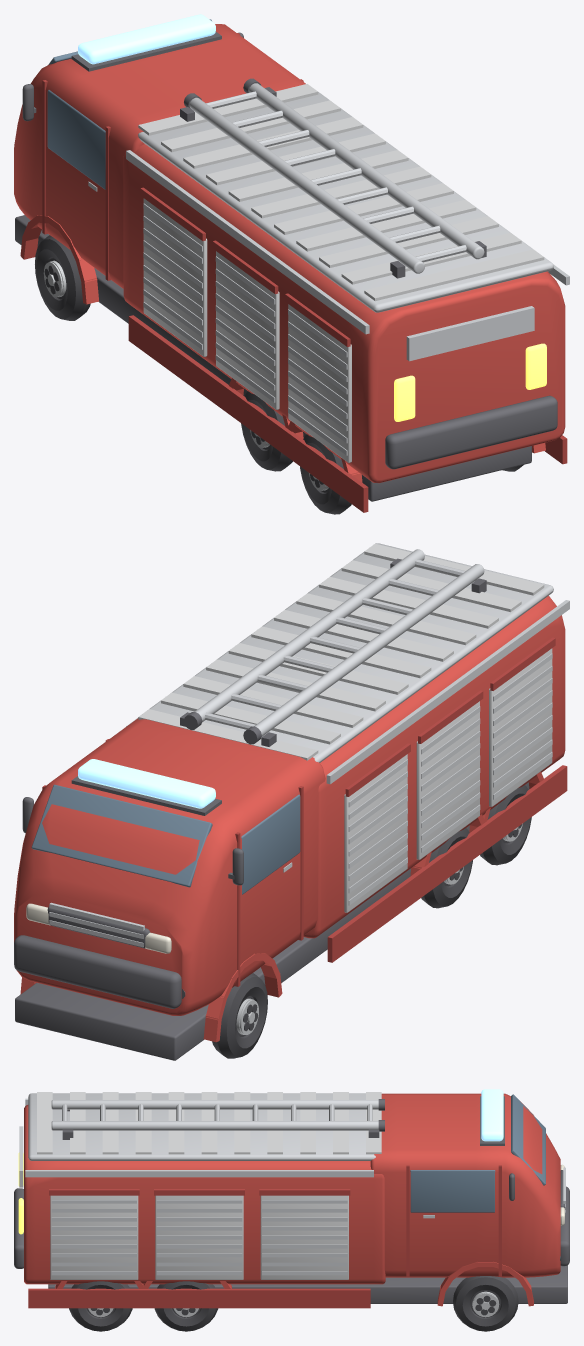
The model's file is th9_feuerwehr.glb.
3 renders of one model, top to bottom at view 1: azimuth 30°, elevation 25°; view 2: azimuth 150°, elevation 25°; view 3: azimuth 270°, elevation 25°, orthographic. The views are drawn at different scales.
Visible parts, largest first — view 1: Karosserie.001, Karosserie, Cube.083, Cube.046, Cube.110, Cube.114, Cube.035, Cube.024, Cube.013, Cylinder, Cylinder.002, Cube.001 (+25 smaller); view 2: Karosserie, Karosserie.001, Cube.083, Cube.114, Cube.046, Cube.099, Cube, Cube.024, Cube.035, Cube.013, Cylinder, Cylinder.002 (+22 smaller); view 3: Karosserie, Karosserie.001, Cube.083, Cube.081, Cube.059, Cube.048, Cube.070, Cube.114, Cube.007, Cylinder.002, Cylinder, Cube.082 (+50 smaller).
Part boxes in pixels (x1,y1,x2,y2): Karosserie.001: (123,144,565,483); Karosserie: (14,24,305,288); Cube.083: (138,92,553,312); Cube.046: (128,315,368,512); Cube.110: (385,395,557,469); Cube.114: (15,215,531,501); Cube.035: (143,198,207,356); Cube.024: (216,251,279,409); Cube.013: (288,304,351,462); Cylinder: (189,97,424,273); Cylinder.002: (249,83,484,259); Cube.001: (47,90,105,189); Karosserie: (14,718,325,1015); Karosserie.001: (303,595,565,938); Cube.083: (149,543,553,762); Cube.114: (15,782,529,1060); Cube.046: (327,765,567,962); Cube.099: (14,935,181,1008); Cube: (31,784,212,887); Cube.024: (416,701,479,859); Cube.035: (344,754,407,912); Cube.013: (489,648,552,806); Cylinder: (254,564,484,736); Cylinder.002: (194,549,424,722); Karosserie: (370,1093,560,1277); Karosserie.001: (24,1105,385,1284); Cube.083: (28,1093,375,1160); Cube.081: (28,1288,370,1308); Cube.059: (155,1195,243,1279); Cube.048: (50,1195,138,1279); Cube.070: (260,1195,348,1279); Cube.114: (48,1265,567,1303); Cube.007: (410,1170,495,1212); Cylinder.002: (51,1121,378,1130); Cylinder: (51,1100,378,1109); Cube.082: (25,1170,373,1177).
Bounding box in the file's own units: 2.81 × 3.19 × 8.45.
